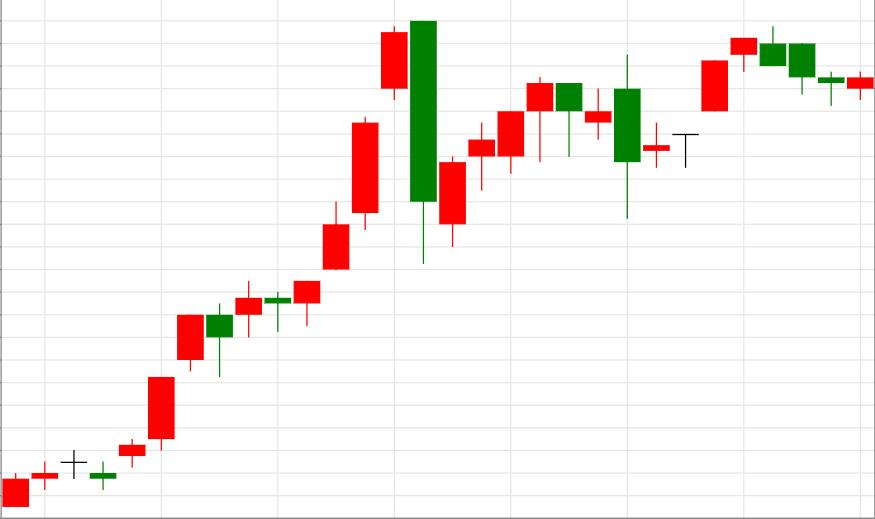bearish_engulfing_fall: (91, 22, 435, 488)
